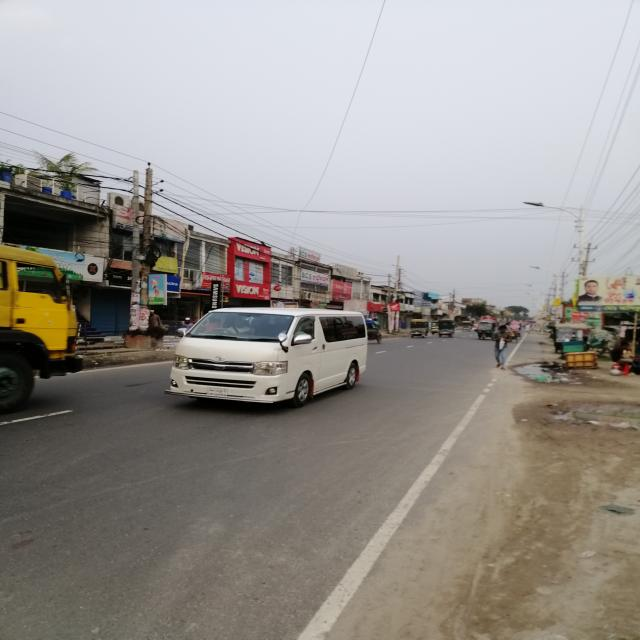Micro-Bus: (166, 307, 369, 416)
